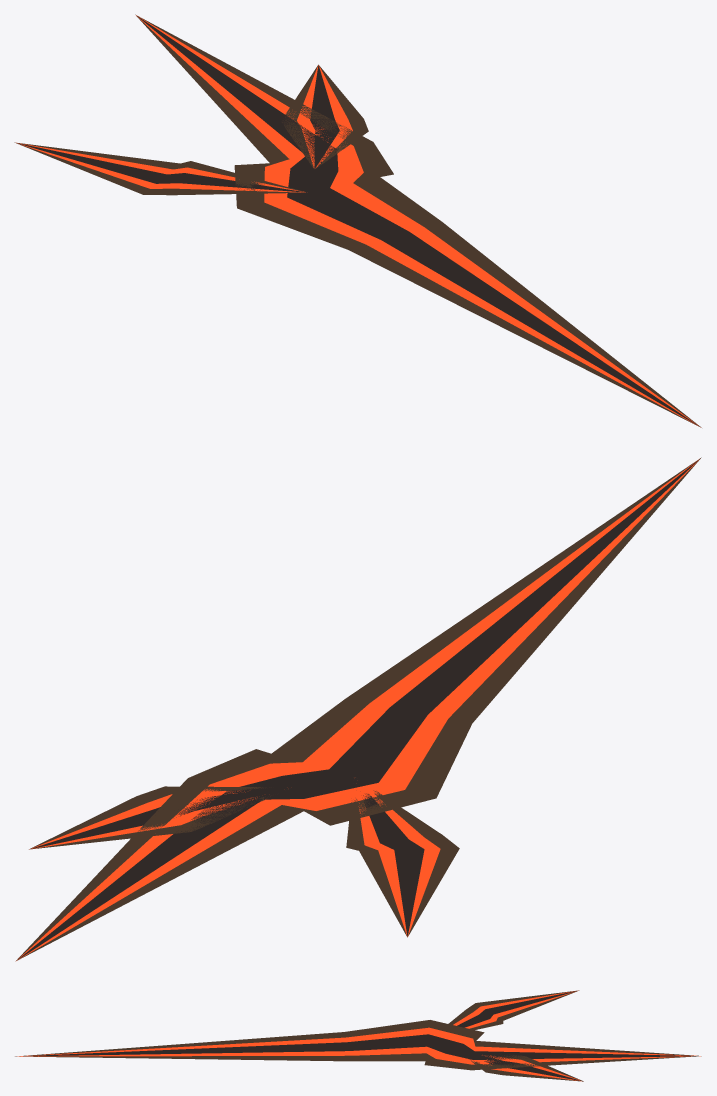
The model's file is SM_Crack_B.fbx.
3 views of the same model, one above another, from view 1: azimuth 30°, elevation 25°; view 2: azimuth 150°, elevation 25°; view 3: azimuth 270°, elevation 25° (orthographic). The views are drawn at different scales.
Visible parts, largest first — view 1: SM_Crack_B; view 2: SM_Crack_B; view 3: SM_Crack_B.
Boxes of the visible parts, x1,y1,x2,y2 form: SM_Crack_B: (14,14,701,427); SM_Crack_B: (15,457,701,961); SM_Crack_B: (15,990,701,1081).
Bounding box in the file's own units: 0.5967 × 0 × 1.9.
